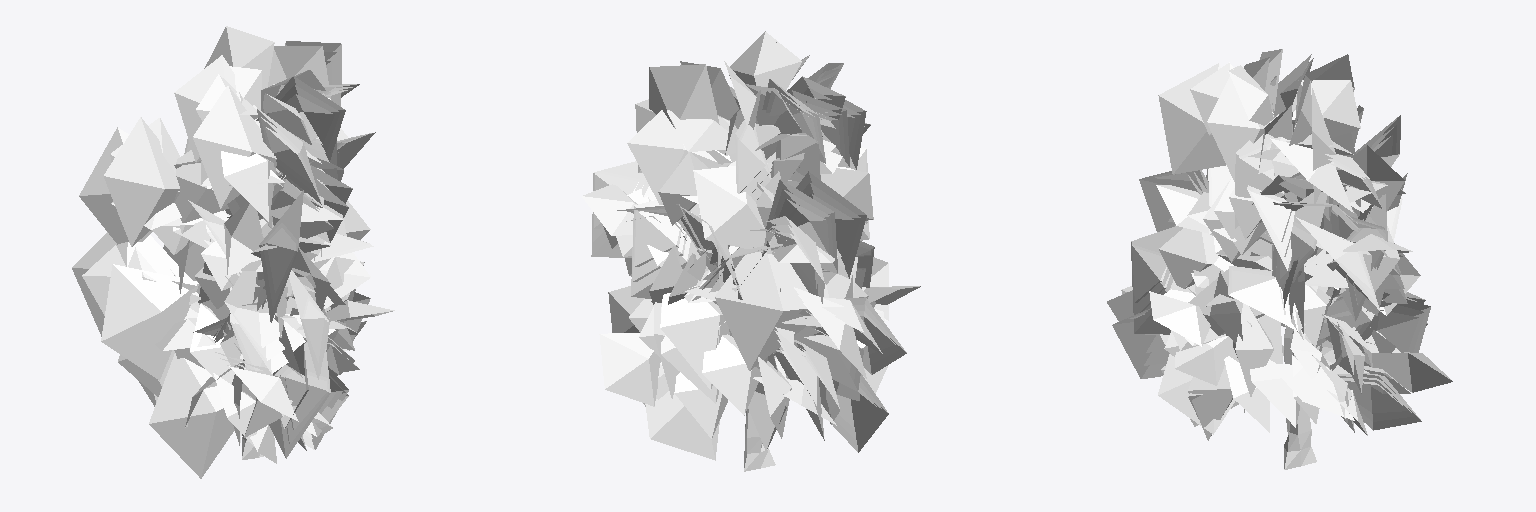
The model's file is Tree.obj.
3 renders of one model, left to right at view 1: azimuth 30°, elevation 25°; view 2: azimuth 150°, elevation 25°; view 3: azimuth 270°, elevation 25°, orthographic.
Visible parts, largest first — view 1: Broadleaf_Mobile_LOD2, Broadleaf_Mobile_LOD0, Broadleaf_Mobile_LOD1; view 2: Broadleaf_Mobile_LOD0, Broadleaf_Mobile_LOD2, Broadleaf_Mobile_LOD1; view 3: Broadleaf_Mobile_LOD0, Broadleaf_Mobile_LOD2, Broadleaf_Mobile_LOD1.
Boxes of the visible parts, box(x1,y1,x2,y2) form: Broadleaf_Mobile_LOD2: box(72, 41, 375, 478); Broadleaf_Mobile_LOD0: box(111, 26, 394, 463); Broadleaf_Mobile_LOD1: box(185, 52, 371, 443); Broadleaf_Mobile_LOD0: box(582, 31, 920, 471); Broadleaf_Mobile_LOD2: box(591, 42, 906, 460); Broadleaf_Mobile_LOD1: box(593, 69, 900, 440); Broadleaf_Mobile_LOD0: box(1107, 49, 1452, 469); Broadleaf_Mobile_LOD2: box(1112, 54, 1430, 440); Broadleaf_Mobile_LOD1: box(1128, 62, 1424, 421).
Size of the model in its own units: 14.74 by 19.55 by 15.07.